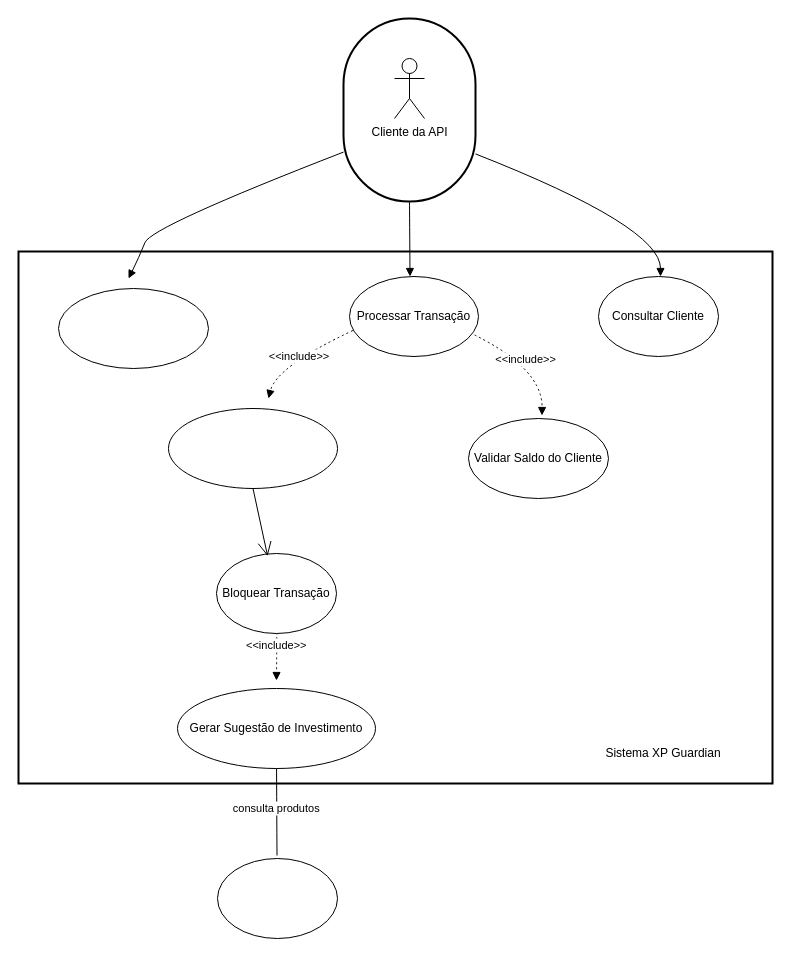
The diagram is 790 pixels wide and 956 high, and some of its shapes have lost their labels. The centre of each missing label's shape, as x and y in pixels:
Banco XP (Sistema Central): (x=277, y=898)
Cadastrar Novo Cliente: (x=133, y=328)
Verificar se é Casa de Aposta: (x=253, y=448)
